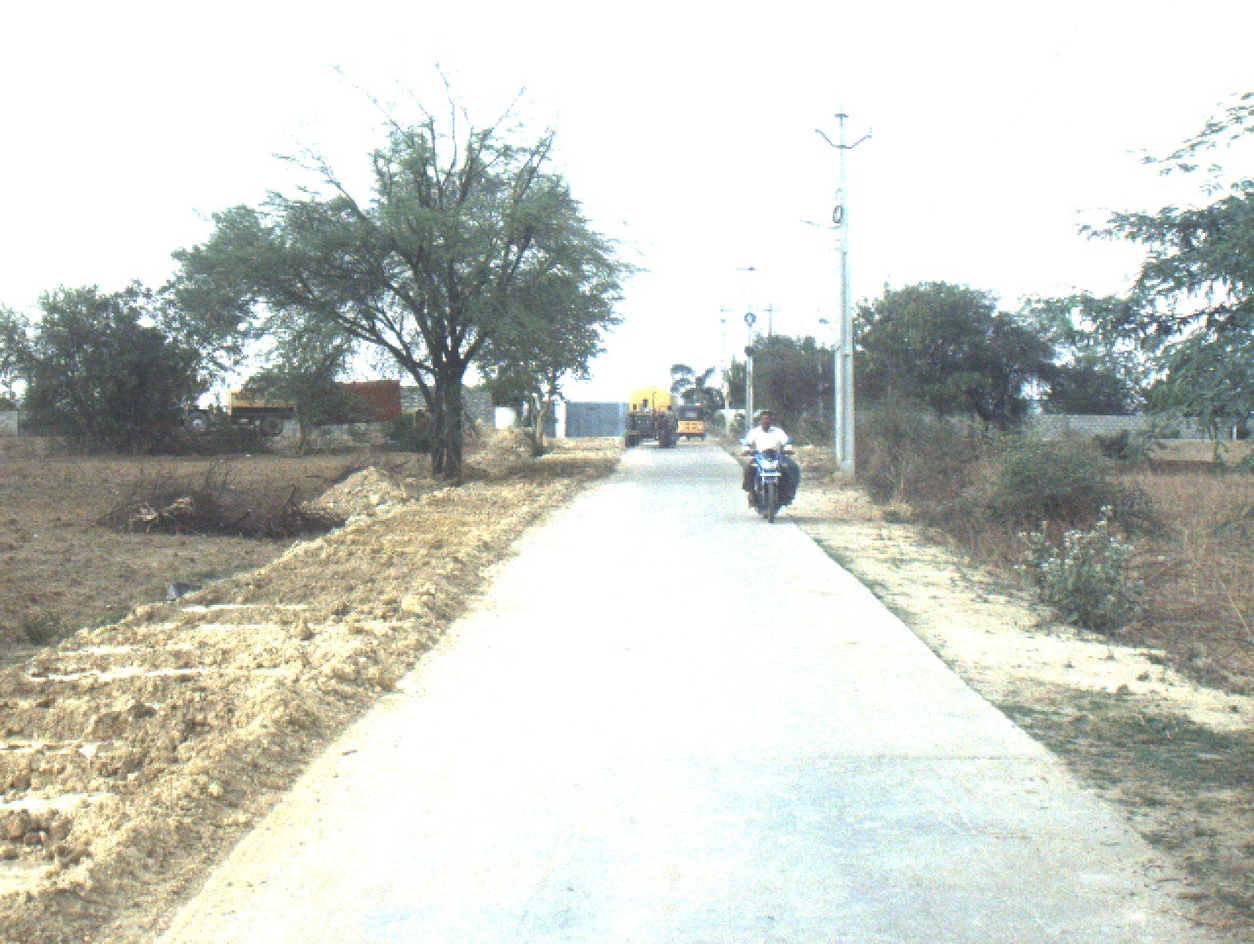autorickshaw: (672, 404, 707, 440)
motorcycle: (735, 430, 800, 526)
person: (660, 403, 681, 452)
rider: (740, 409, 795, 512), (766, 411, 806, 504), (639, 399, 652, 418)
vehicle fallback: (627, 386, 675, 445)
